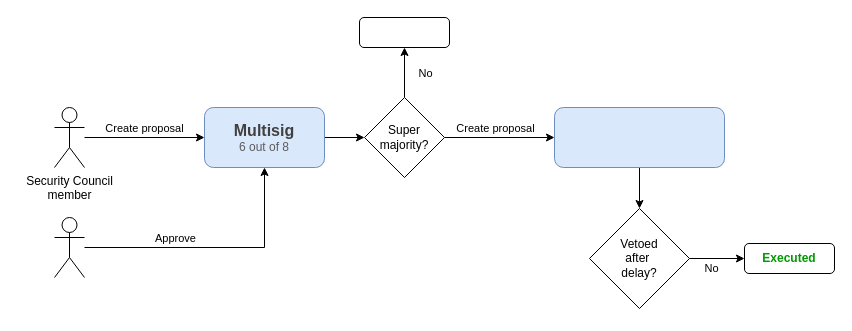
The diagram is 852 pixels wide and 331 high, and some of its shapes have lost their labels. Here are the shapes that lost their labels. From the top down, the centre of each, then its label:
the point at 404,32: Rejected
the point at 639,137: Optimistic vote Zero delay
the point at 69,247: Security Council member (6 out of 8)
